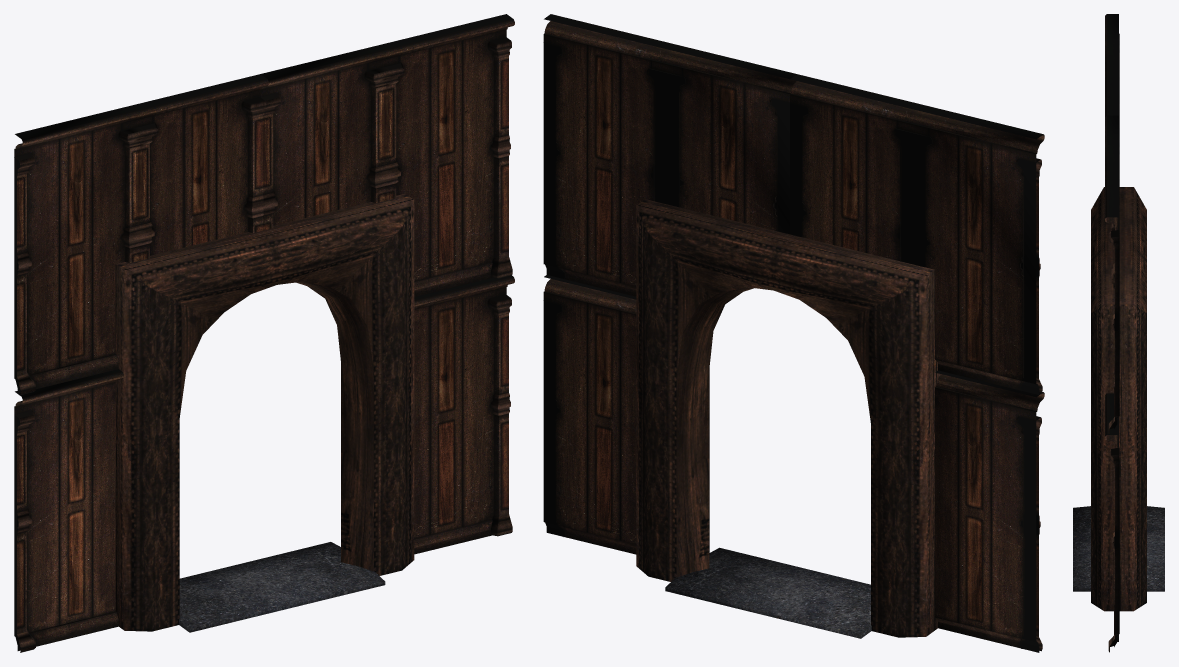
The model's file is mansion_double_door_frame.DAE.
3 renders of one model, left to right at view 1: azimuth 30°, elevation 25°; view 2: azimuth 150°, elevation 25°; view 3: azimuth 270°, elevation 25°, orthographic. The views are drawn at different scales.
Parts seen in each view (by area): view 1: Box001, Object001; view 2: Box001, Object001; view 3: Object001, Box001.
Boxes of the visible parts, x1,y1,x2,y2 form: Box001: (14,14,514,652); Object001: (115,193,414,632); Box001: (543,14,1044,652); Object001: (636,199,941,638); Object001: (1073,187,1164,611); Box001: (1105,14,1119,652).
Size of the model in its own units: 8 by 1.53 by 8.
